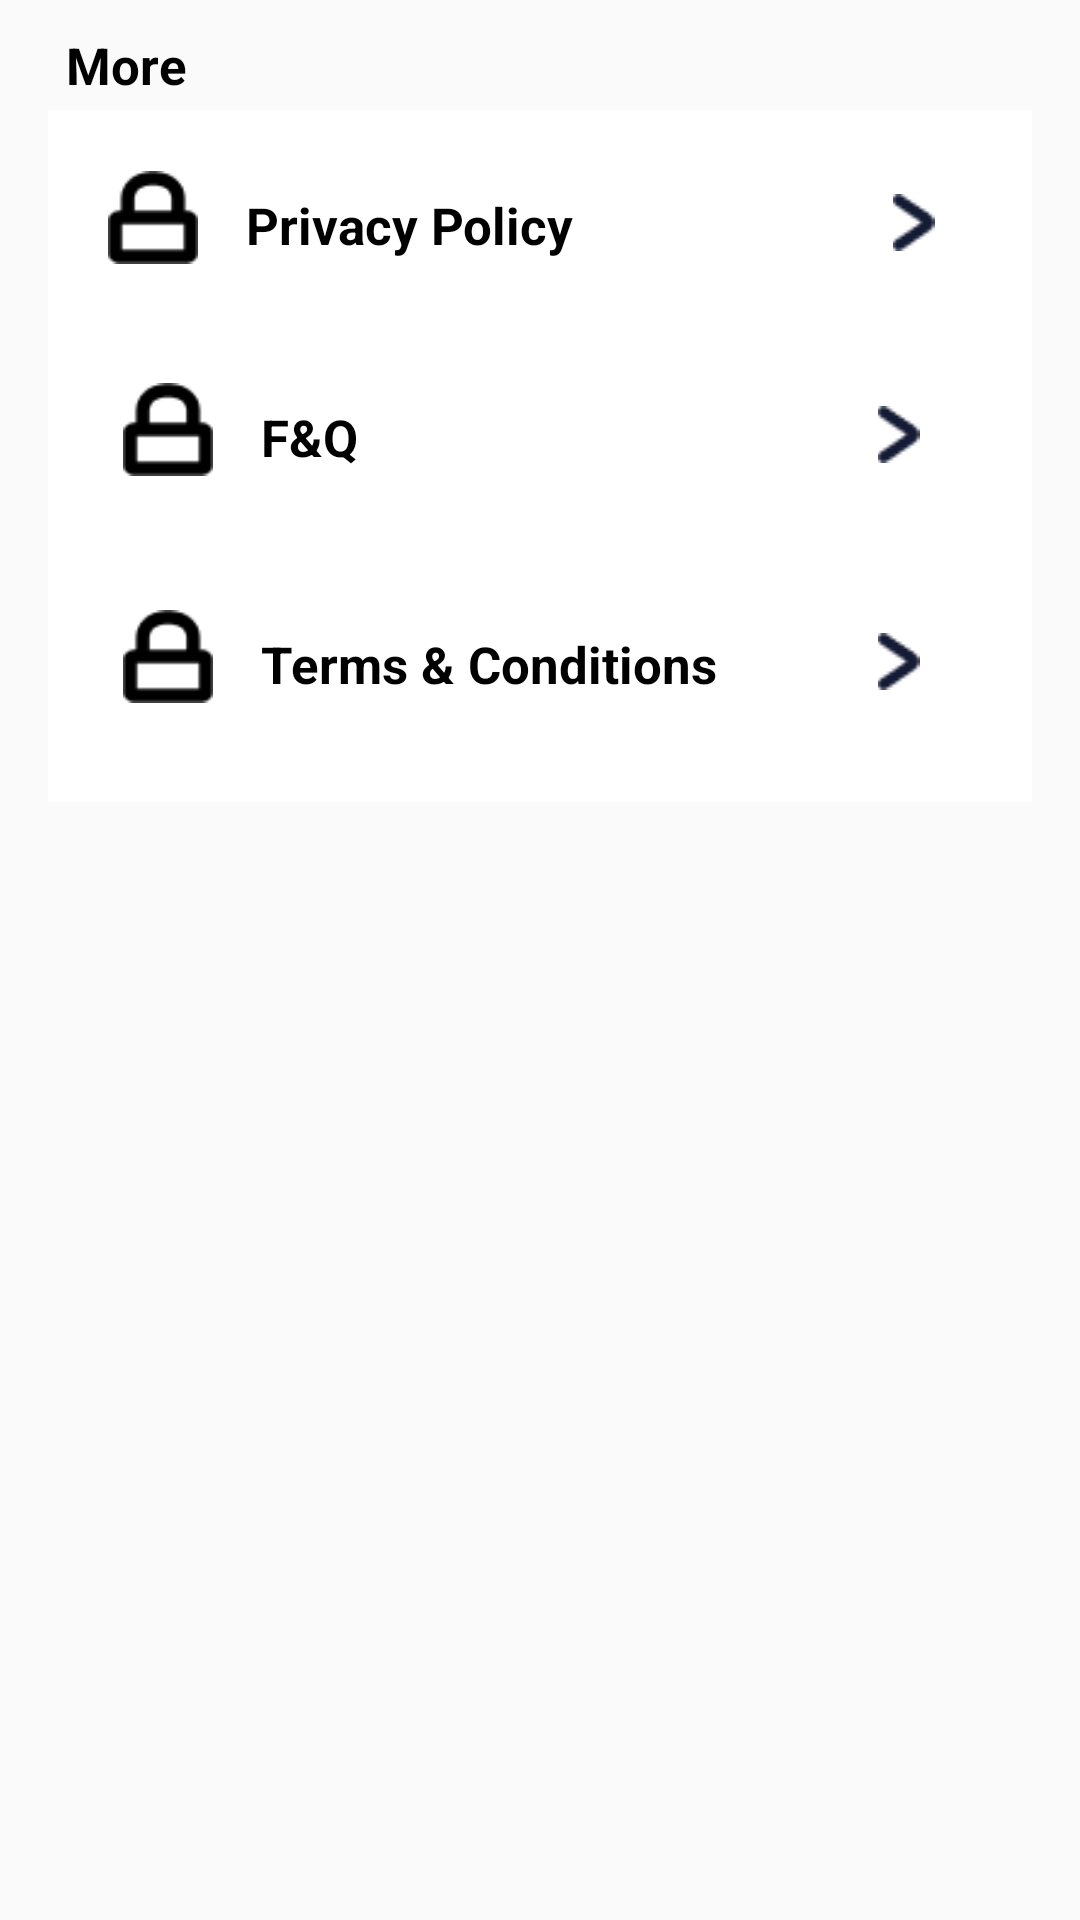

Where to tap for icons on this 1080×1920 app screen, as point (x, y):
arrow: point (914, 222), point (899, 434), point (899, 661)
gembok: point (153, 217), point (168, 429), point (168, 656)
